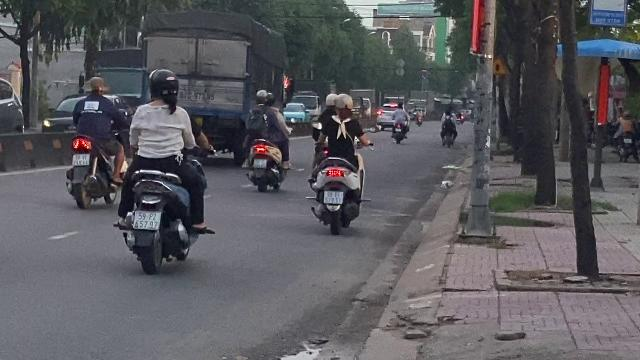helmet: (146, 68, 180, 105), (334, 93, 354, 117), (252, 89, 268, 105), (324, 93, 338, 108)
licenseplate: (132, 211, 160, 229), (325, 191, 343, 203), (72, 154, 88, 164), (254, 159, 266, 167)
motorcyclist: (112, 65, 214, 274), (306, 91, 368, 235), (65, 74, 125, 208), (242, 89, 290, 193)
nohelmet: (82, 76, 110, 99)
